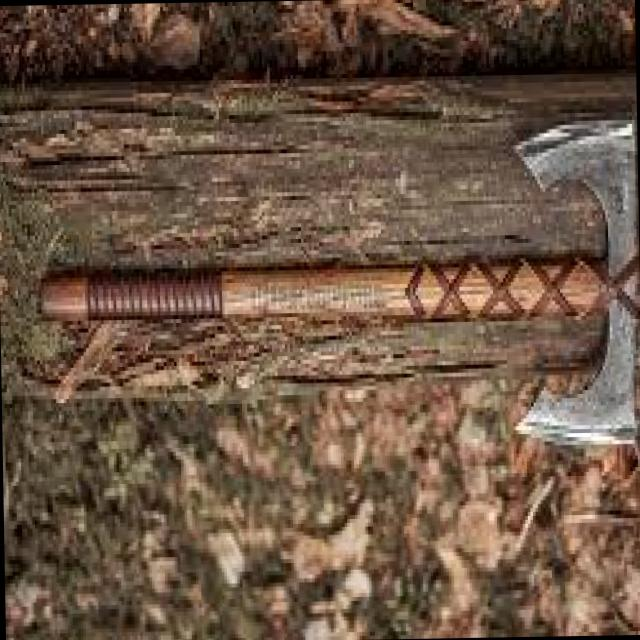Gun: (32, 84, 640, 492)
